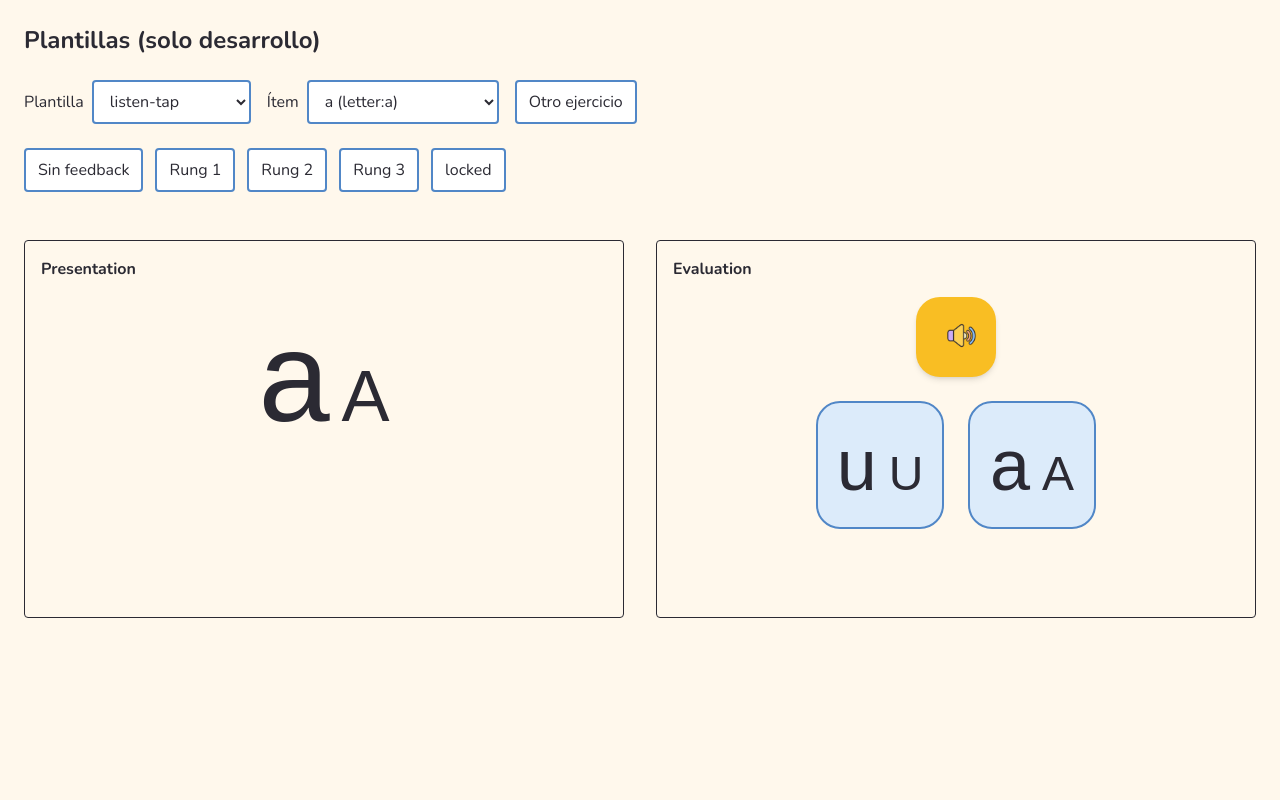
Test: PlantillasDev › say-it: se monta con el micrófono y el rung 1 enseña la boca
The image size is (1280, 800).
Select "say-it" in the dropdown labelled "Plantilla" at (171,102), box [92, 80, 251, 124]
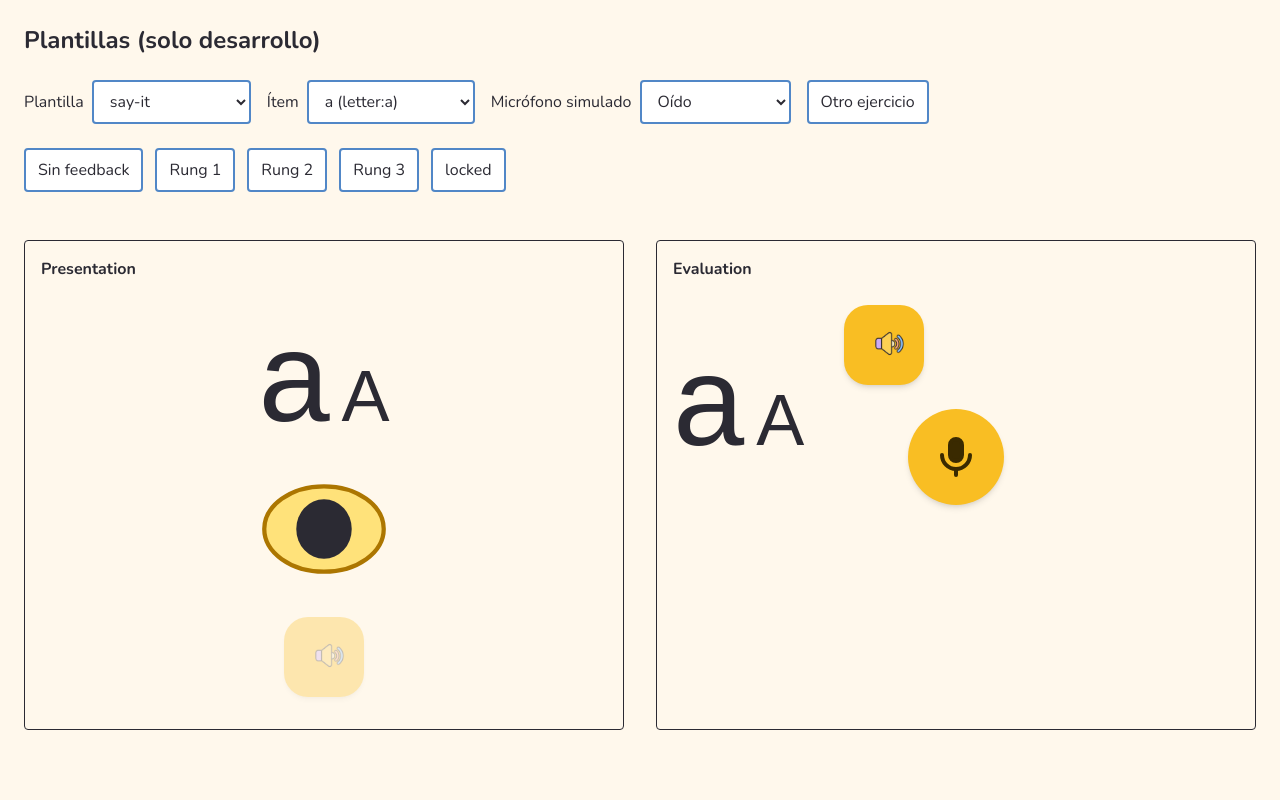
expect the button named "Micrófono" is shown: met, box [908, 409, 1004, 505]
Click the button "Rung 1" at (195,170), box [156, 148, 235, 192]
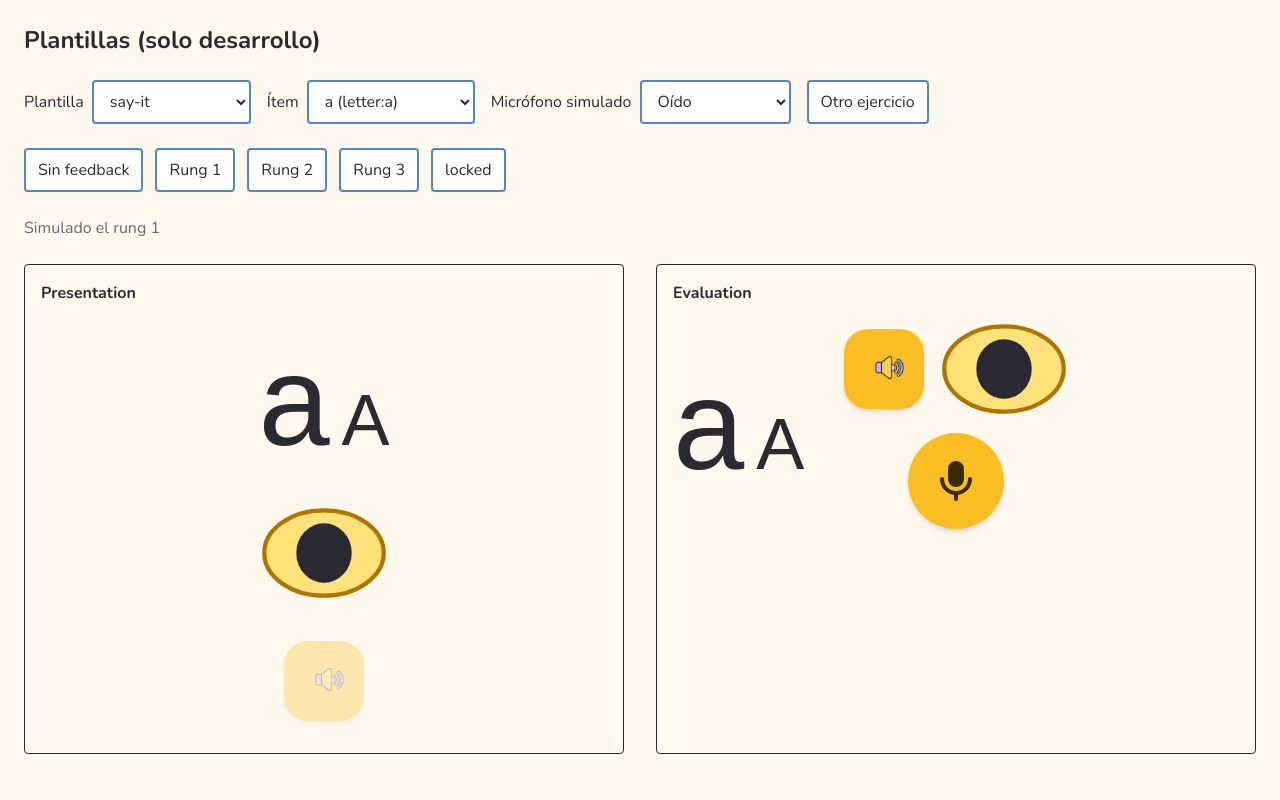
expect the 1st icon is shown: met, box [940, 321, 1068, 417]
